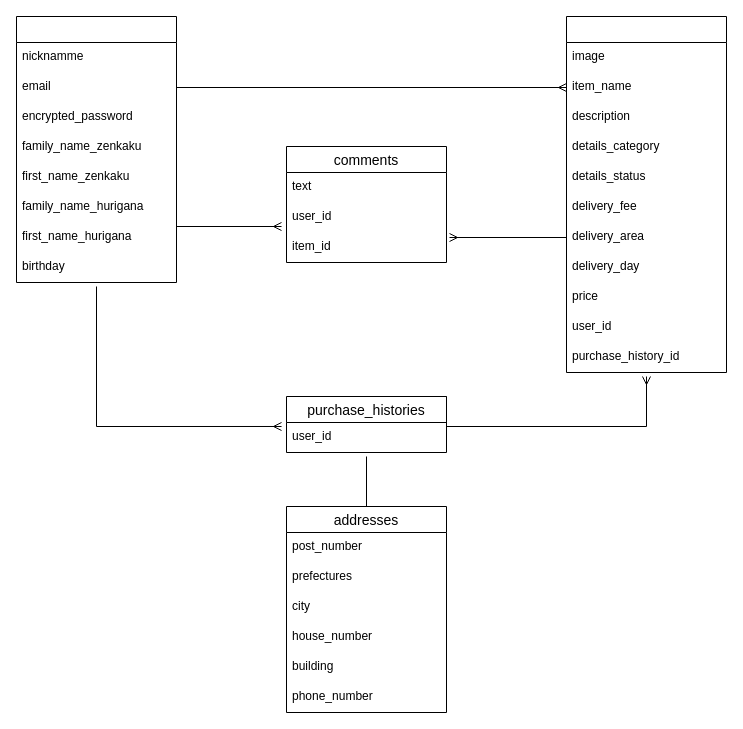
Image size: 743x729. Some labels were removed from this diagram. Here are the shapes that lost their labels. From the top down, the box of each, then its label:
(16, 16, 176, 282): users
(566, 16, 726, 372): items
